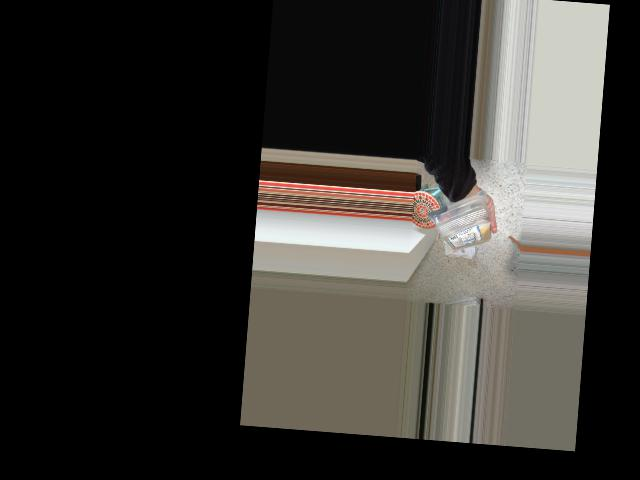cheese: (420, 185, 492, 264)
